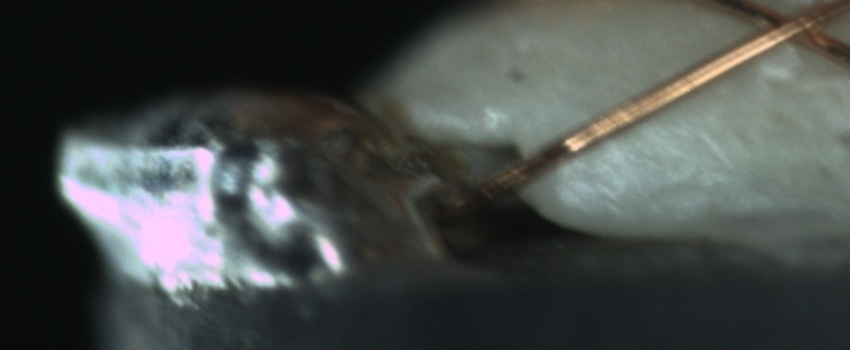CL: (740, 0, 843, 57)
